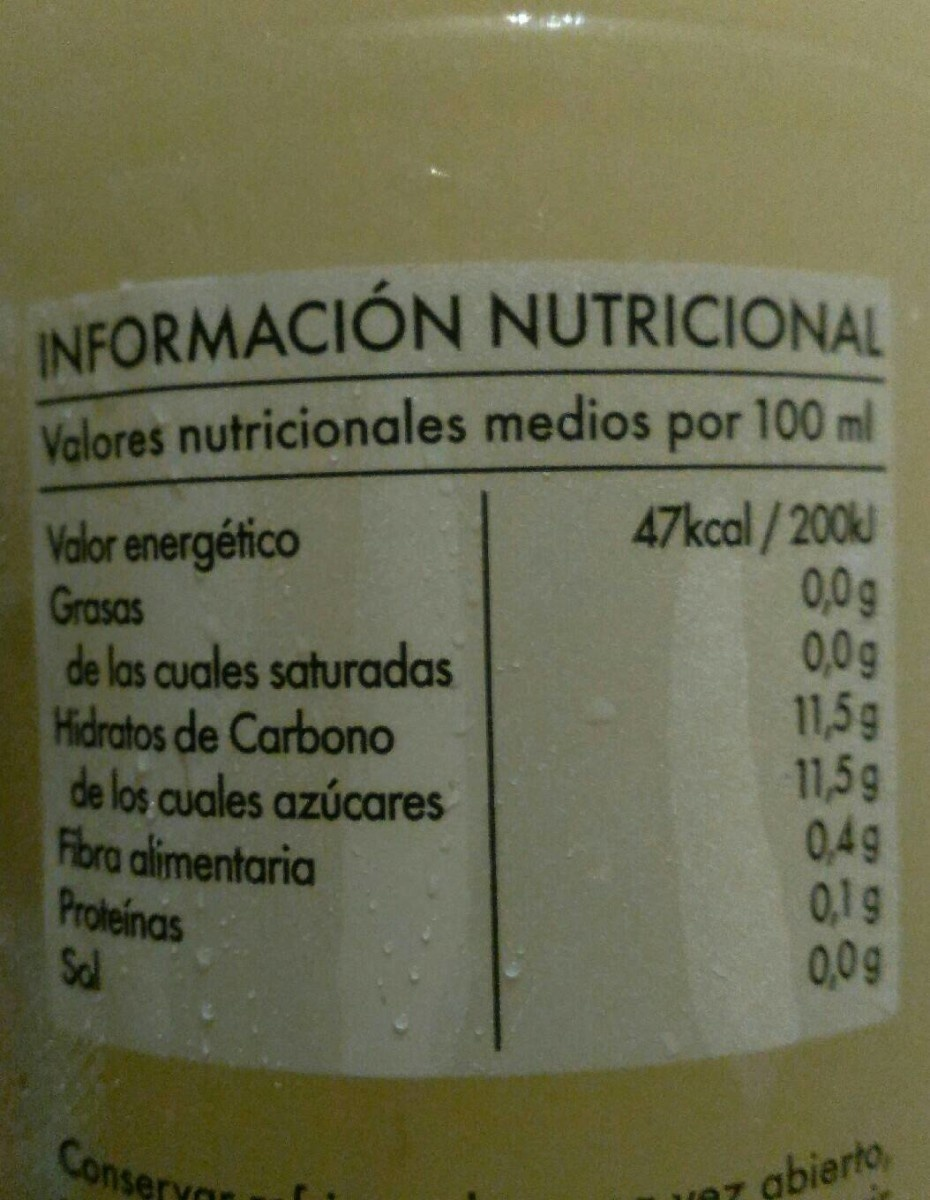column: (31, 492, 459, 1047), (624, 487, 897, 1051)
table: (15, 265, 913, 1073)
